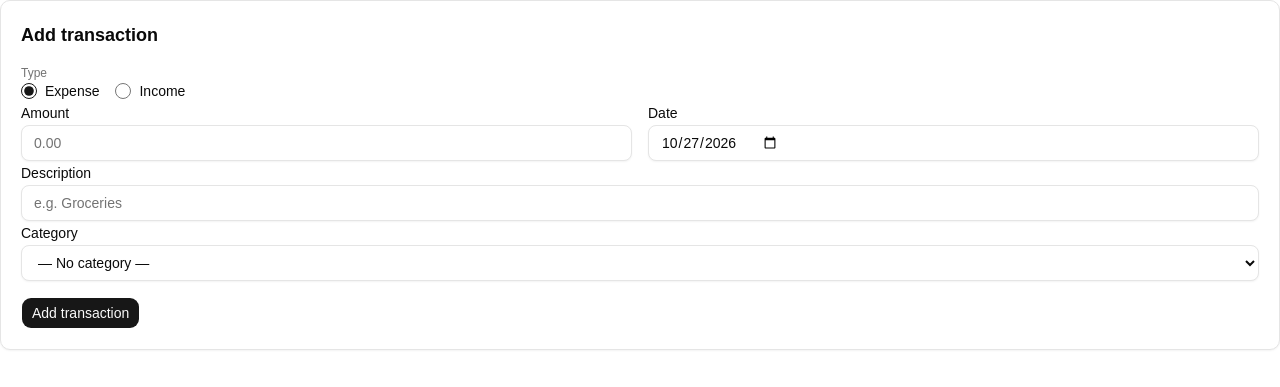
TransactionForm › rejects an amount with three decimal places
This screenshot has width=1280, height=387.
In the field labelled "Amount": (326, 143) 21,125 -> 632,161, type "42.999"
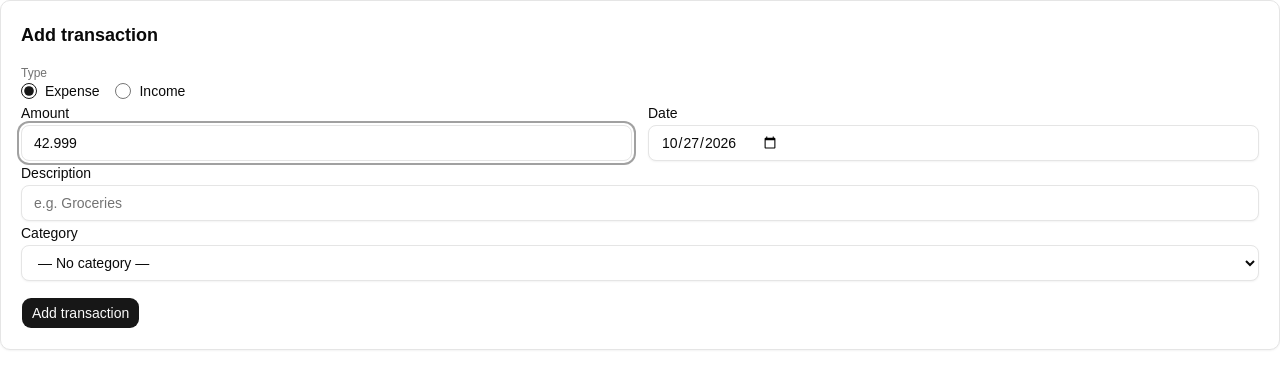
In the field labelled "Description": (640, 203) 21,185 -> 1259,221, type "Test"
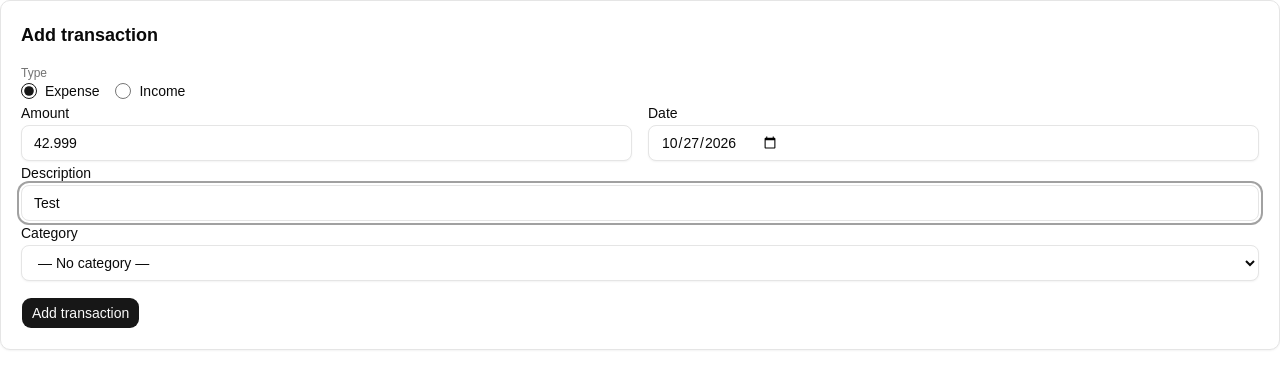
Click the button "Add transaction": (81, 313) 21,297 -> 140,329
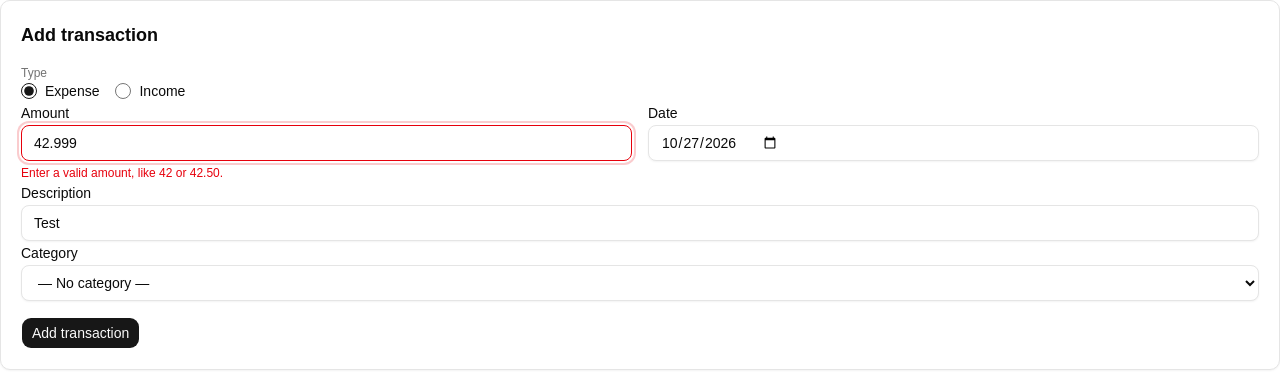
Result: the text "Enter a valid amount, like 42 or 42.50." is shown at 21,166 -> 223,180
